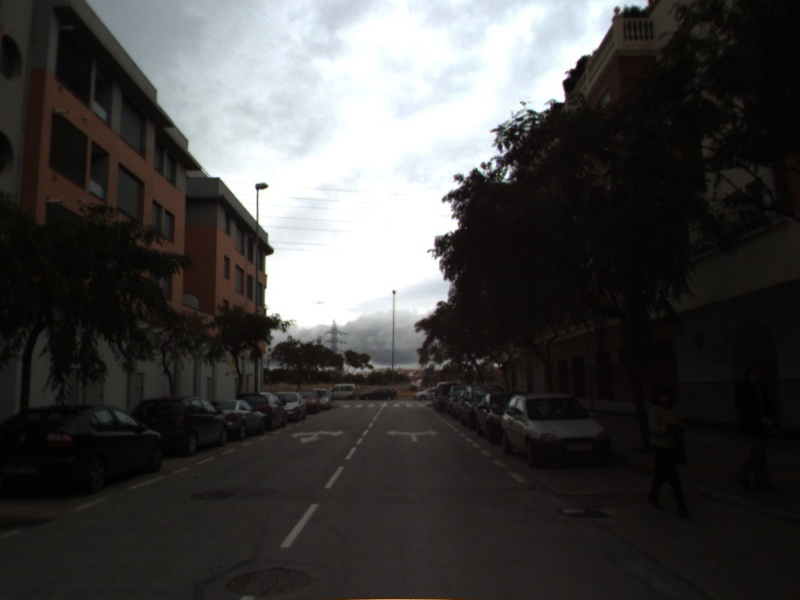LEFT_RIGHT: (384, 427, 441, 444)
